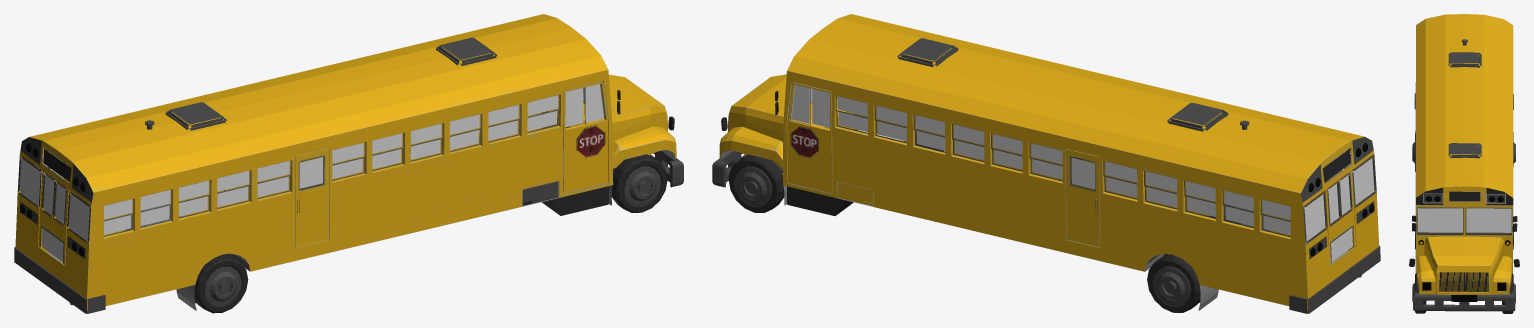
The model's file is bus.glb.
3 views of the same model, side by side, from view 1: azimuth 30°, elevation 25°; view 2: azimuth 150°, elevation 25°; view 3: azimuth 270°, elevation 25° (orthographic). The views are drawn at different scales.
Visible parts, largest first — view 1: bus; view 2: bus; view 3: bus.
Part boxes in pixels (bbox=[...]): bus: bbox=[14, 14, 683, 313]; bus: bbox=[712, 14, 1380, 313]; bus: bbox=[1409, 14, 1519, 313].
Bounding box in the file's own units: 9.96 × 2.8 × 2.35.
1 material, 1 textured.
